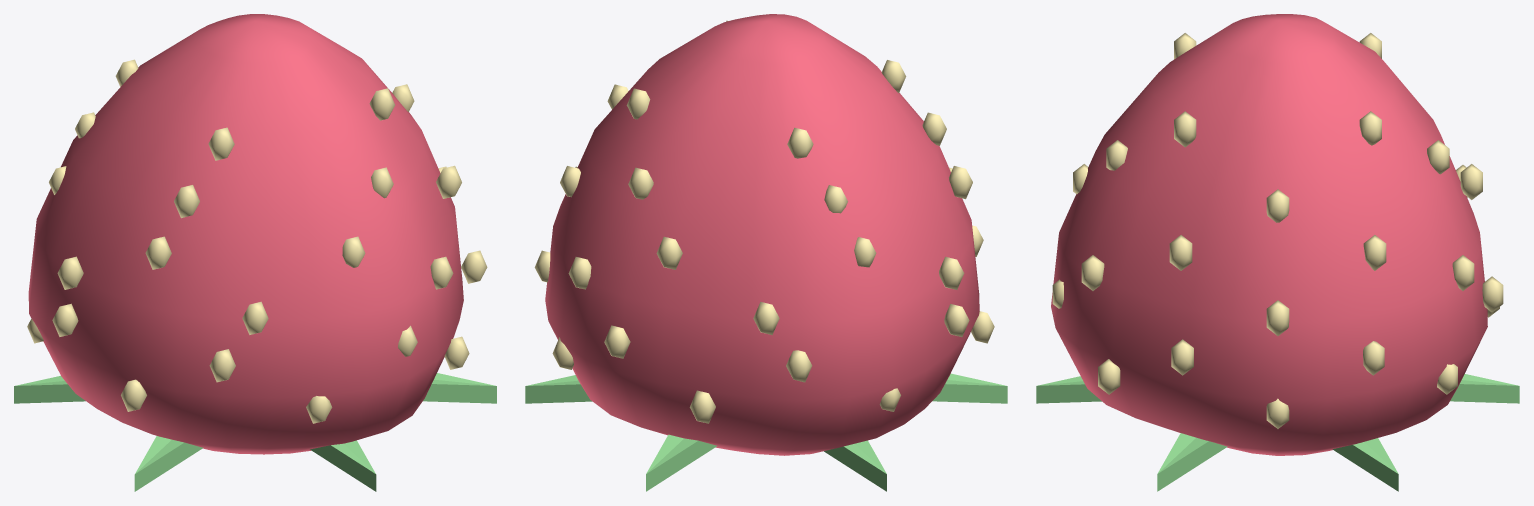
File: CakeBerry.glb
3 views of the same model, side by side, from view 1: azimuth 30°, elevation 25°; view 2: azimuth 150°, elevation 25°; view 3: azimuth 270°, elevation 25° (orthographic).
Visible parts, largest first — view 1: Berry, Seeds, BerryLeaves; view 2: Berry, Seeds, BerryLeaves; view 3: Berry, Seeds, BerryLeaves.
Part boxes in pixels (box(x1,y1,x2,y2)): Berry: box(28, 14, 463, 454); Seeds: box(27, 59, 487, 423); BerryLeaves: box(14, 373, 496, 491); Berry: box(545, 14, 979, 455); Seeds: box(534, 20, 994, 423); BerryLeaves: box(525, 373, 1007, 491); Berry: box(1051, 14, 1487, 455); Seeds: box(1052, 33, 1503, 428); BerryLeaves: box(1036, 374, 1519, 491).
Bounding box in the file's own units: 1.18 × 1.1 × 1.24.
